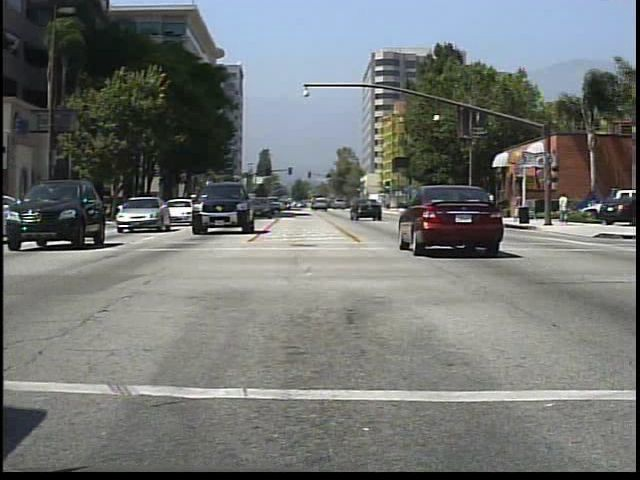person: (507, 189, 525, 225), (557, 190, 573, 225)
